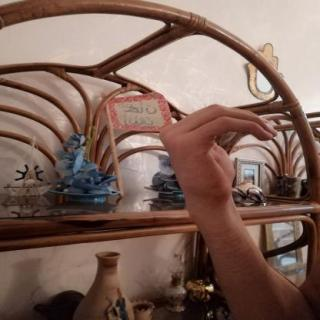HAA: (146, 92, 292, 207)
